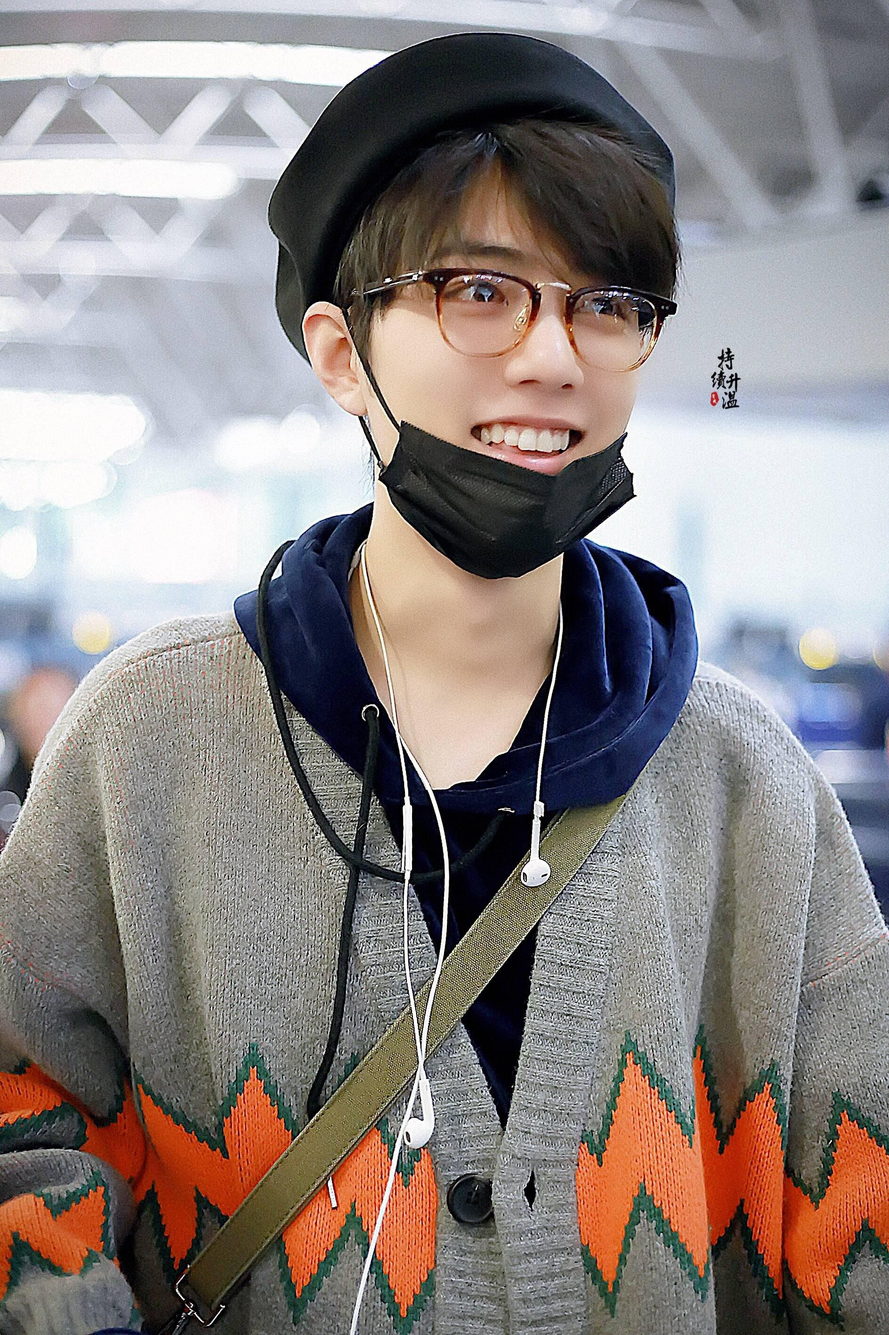WRONG: (380, 217, 642, 543)
